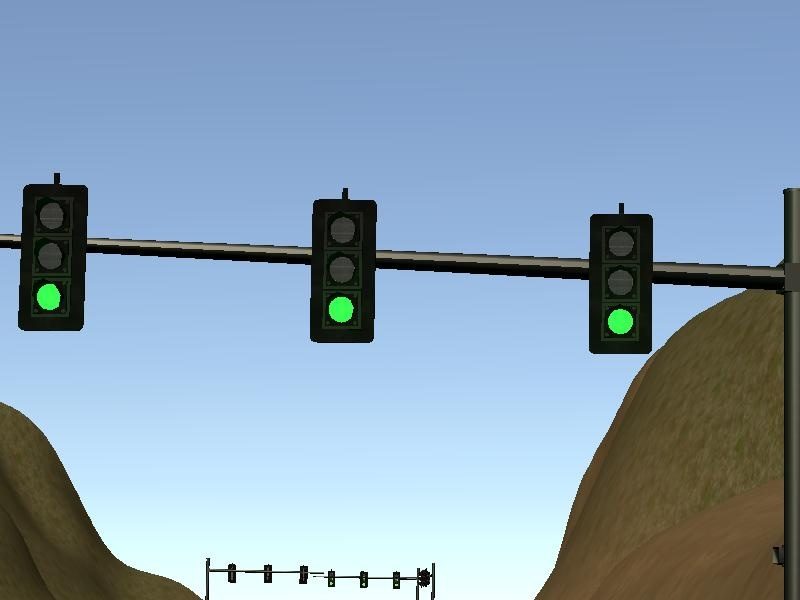green: (303, 190, 383, 349), (18, 179, 92, 335), (583, 212, 659, 356)
